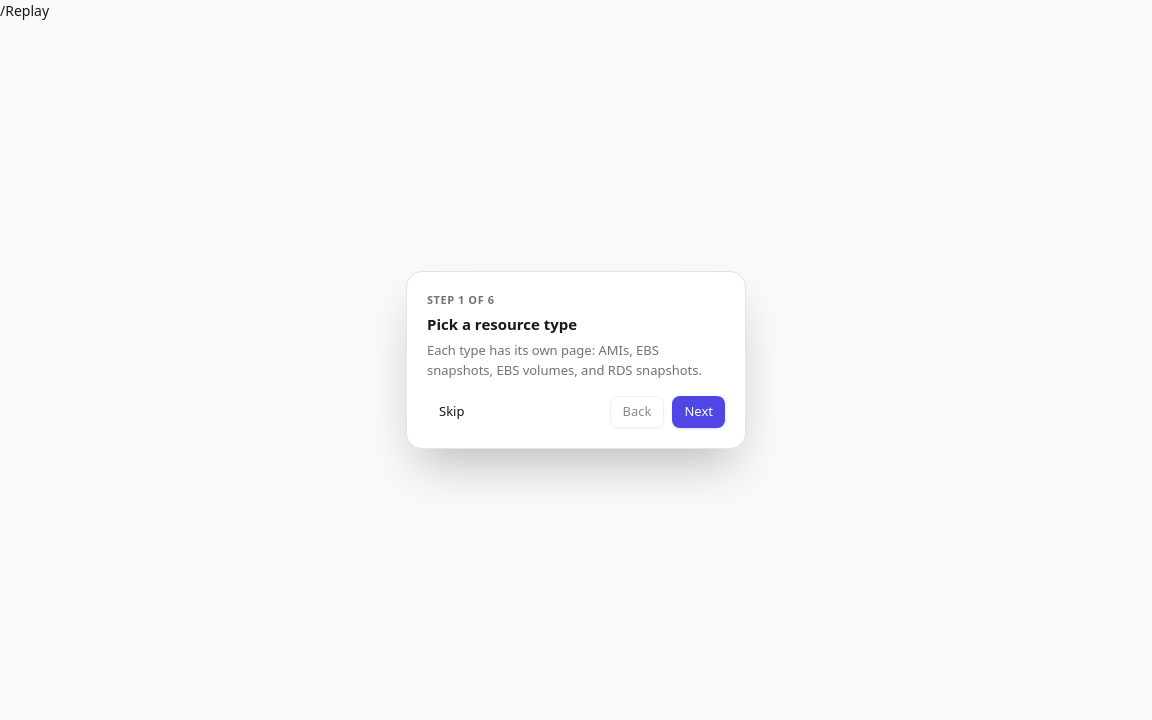
Test: Walkthrough › Next and Back move between steps, and later steps open the AMIs page
This screenshot has width=1152, height=720.
expect the text "Step 1 of 6" is shown: met, box [427,292,494,307]
Click the button "Next".
click(699, 412)  # box [672,396,725,428]
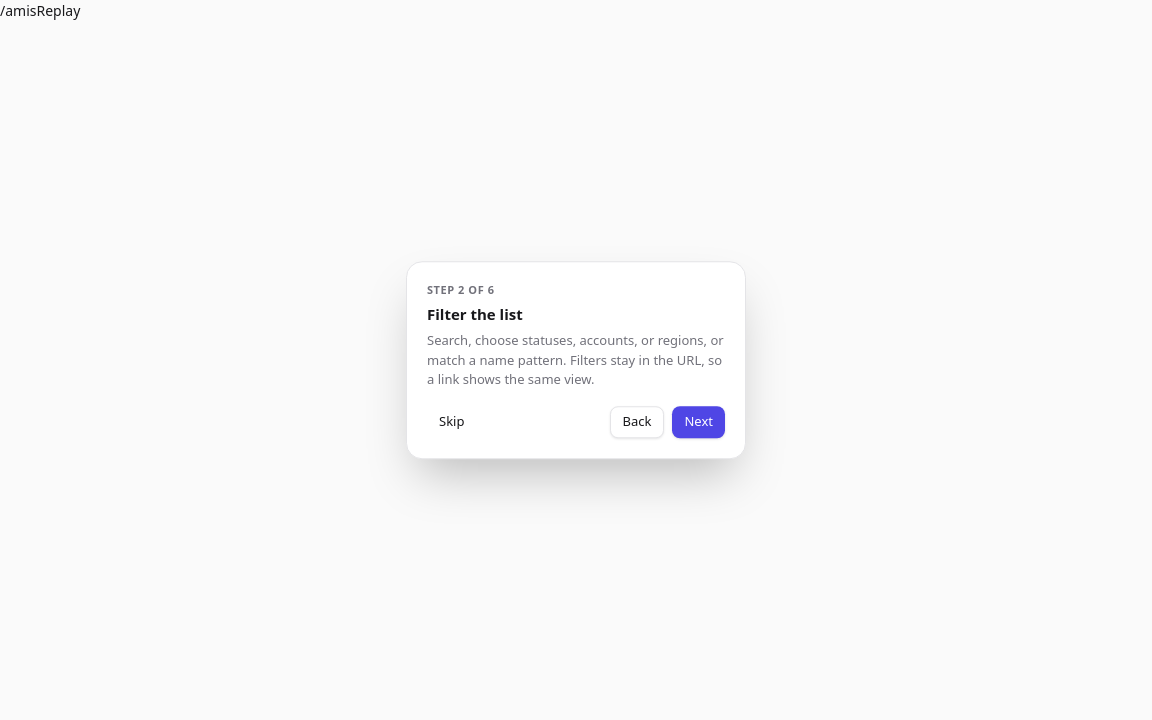
expect the text "Step 2 of 6" is shown: met, box [427,282,494,297]
expect the text with test id "where" reads "/amis": met, box [0,1,36,20]
Click the button "Back".
click(637, 422)  # box [610,406,664,438]
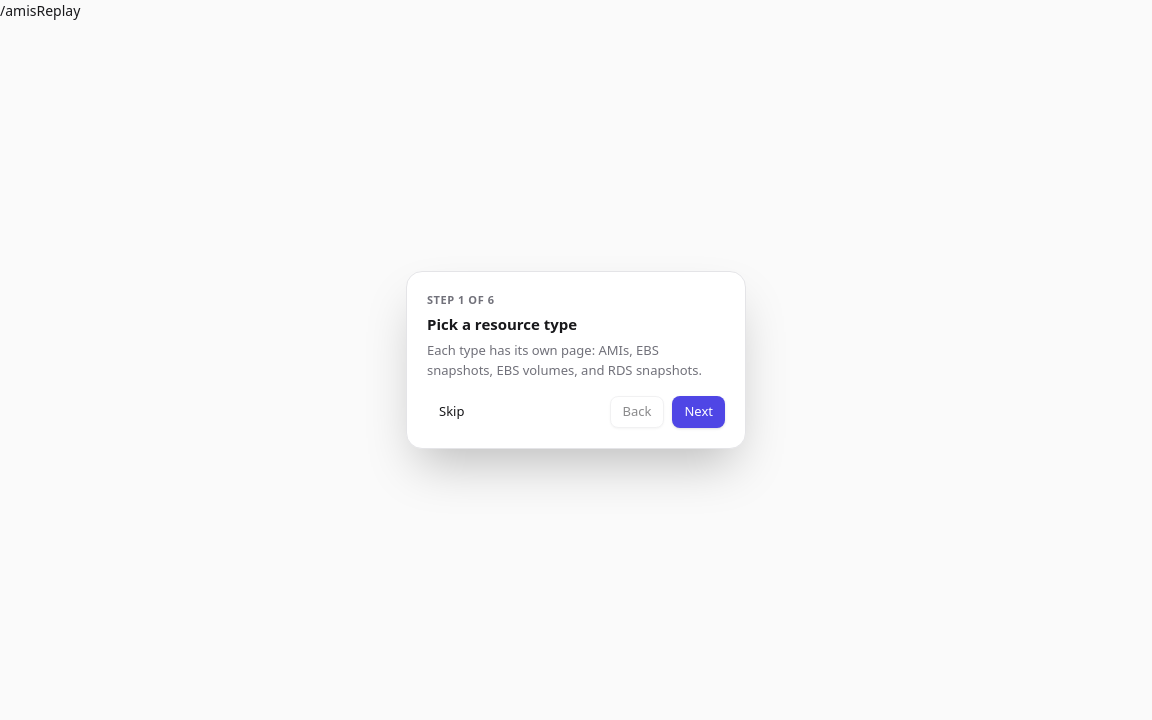
expect the text "Step 1 of 6" is shown: met, box [427,292,494,307]
